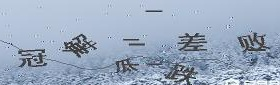chinese: (65, 30, 97, 58), (238, 33, 272, 58), (16, 43, 47, 70), (165, 61, 195, 85), (179, 29, 206, 55), (117, 56, 142, 74)
